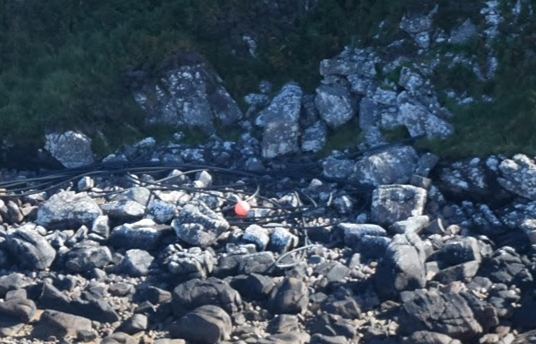more_tube: (275, 183, 369, 232), (1, 159, 116, 198), (118, 156, 218, 195), (220, 156, 308, 197)
tube: (335, 127, 430, 164), (270, 234, 322, 274)
white_in_green: (215, 182, 273, 233)
